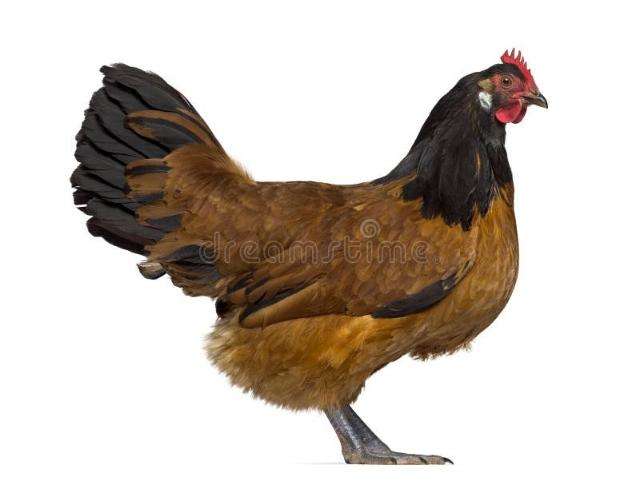Chicken: (70, 45, 547, 464)
